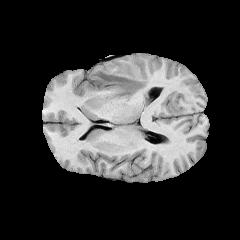glioma: (91, 62, 148, 99)
